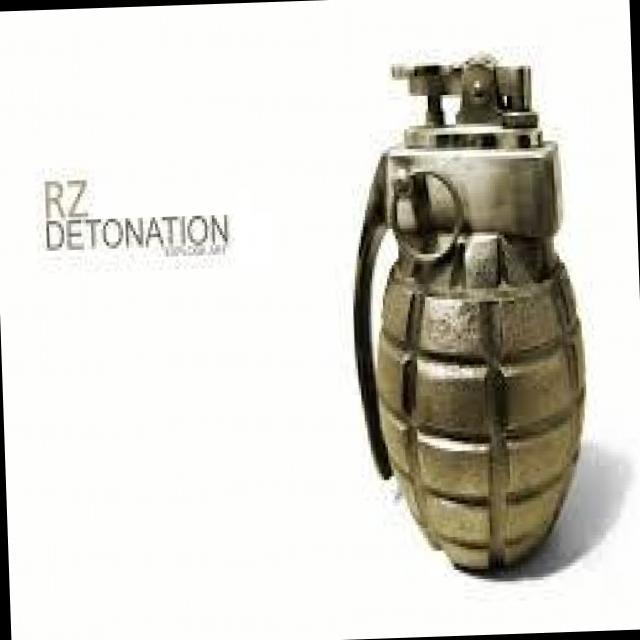grenade: (345, 44, 594, 586)
